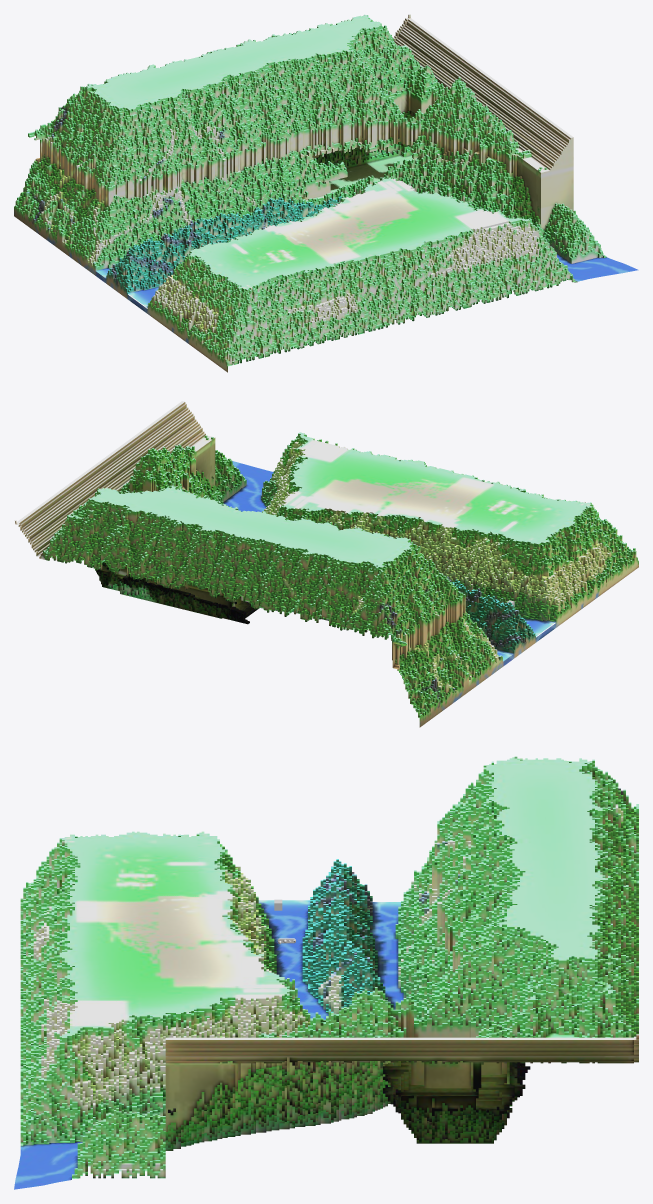
3 views of the same model, one above another, from view 1: azimuth 30°, elevation 25°; view 2: azimuth 150°, elevation 25°; view 3: azimuth 270°, elevation 25° (orthographic). The views are drawn at different scales.
Parts seen in each view (by area): view 1: Mountains; view 2: Mountains; view 3: Mountains.
Part boxes in pixels (left/top/right/bottom): Mountains: left=14, top=14, right=638, bottom=372; Mountains: left=14, top=401, right=638, bottom=727; Mountains: left=14, top=756, right=638, bottom=1189.
Bounding box in the file's own units: 74.34 × 22.59 × 68.22.
3 materials, 1 textured.
